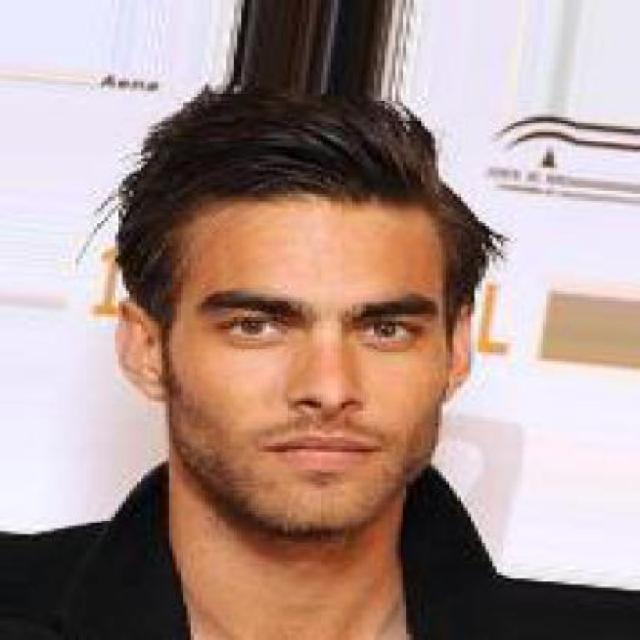closed-mouth: (255, 428, 388, 468)
